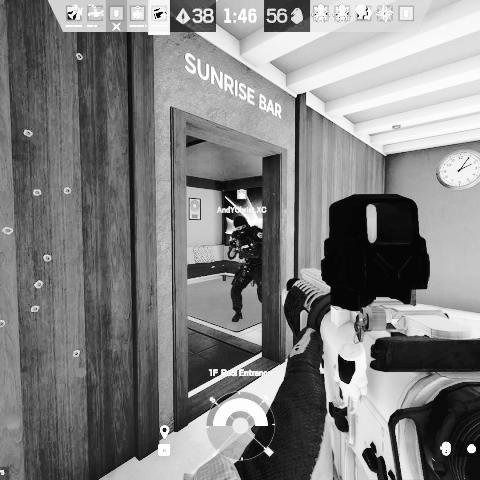Character: (226, 212, 264, 324)
Friend_label: (215, 188, 268, 214)
Head: (232, 214, 250, 233)
